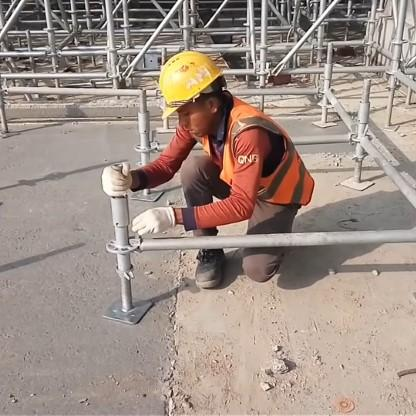helmet: (150, 44, 243, 152)
